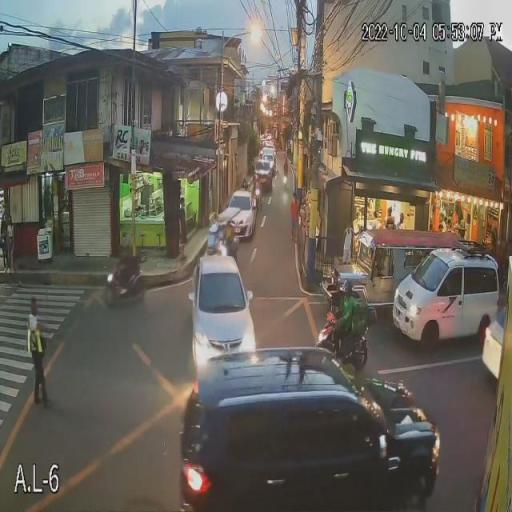helmet: (340, 281, 353, 301)
motorcycle: (313, 312, 372, 370), (104, 271, 147, 306)
rider: (335, 288, 354, 341)
